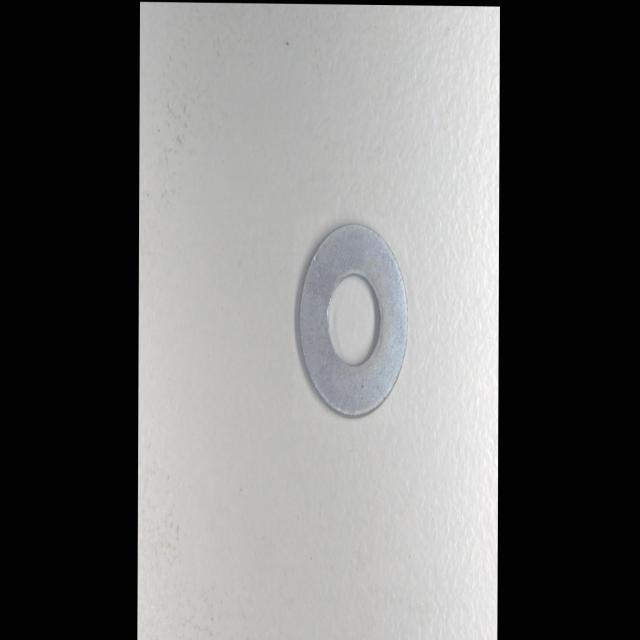washer: (294, 215, 409, 422)
